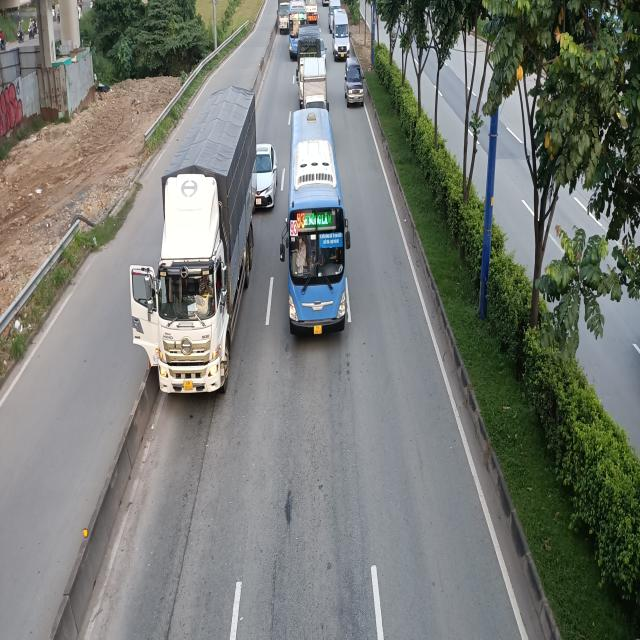car: (256, 144, 278, 212), (344, 57, 365, 107)
coach: (281, 106, 350, 336)
truck: (144, 84, 258, 395), (277, 0, 291, 33)
van: (330, 8, 351, 61)
